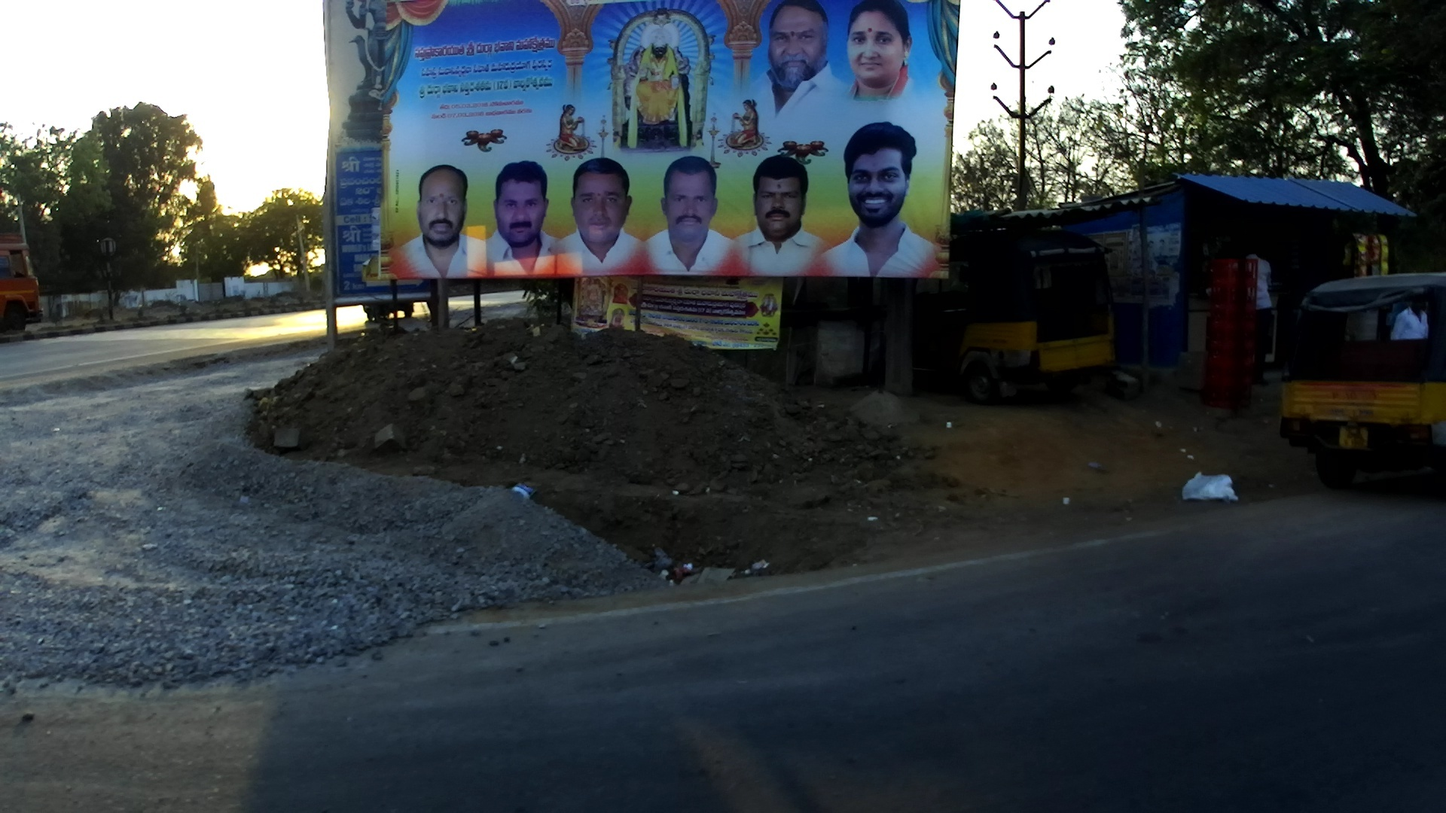autorickshaw: (911, 227, 1121, 409), (1278, 273, 1446, 493)
person: (1242, 241, 1276, 386)
truck: (1, 232, 42, 336)
